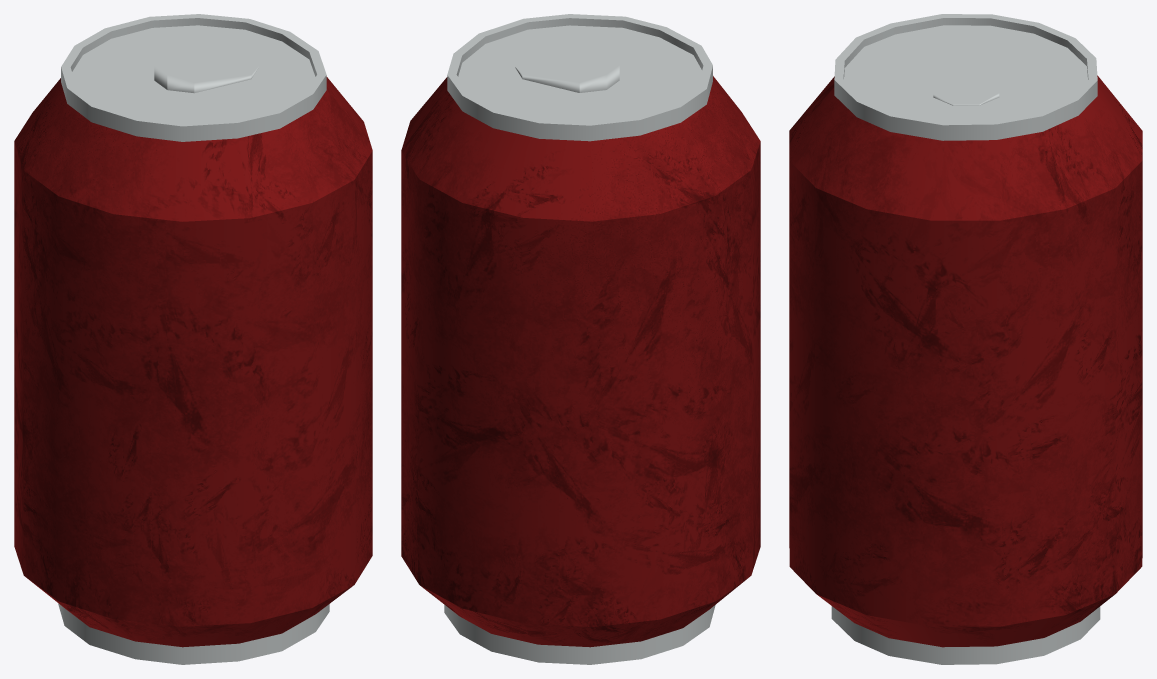
The model's file is Trash_Can_Final(LowPoly).fbx.
3 renders of one model, left to right at view 1: azimuth 30°, elevation 25°; view 2: azimuth 150°, elevation 25°; view 3: azimuth 270°, elevation 25°, orthographic.
Visible parts, largest first — view 1: drink_004; view 2: drink_004; view 3: drink_004.
Boxes of the visible parts, x1,y1,x2,y2 form: drink_004: (14, 14, 372, 664); drink_004: (401, 14, 760, 664); drink_004: (789, 14, 1142, 664).
Bounding box in the file's own units: 6.94 × 11.83 × 6.93.
2 materials, 2 textured.
